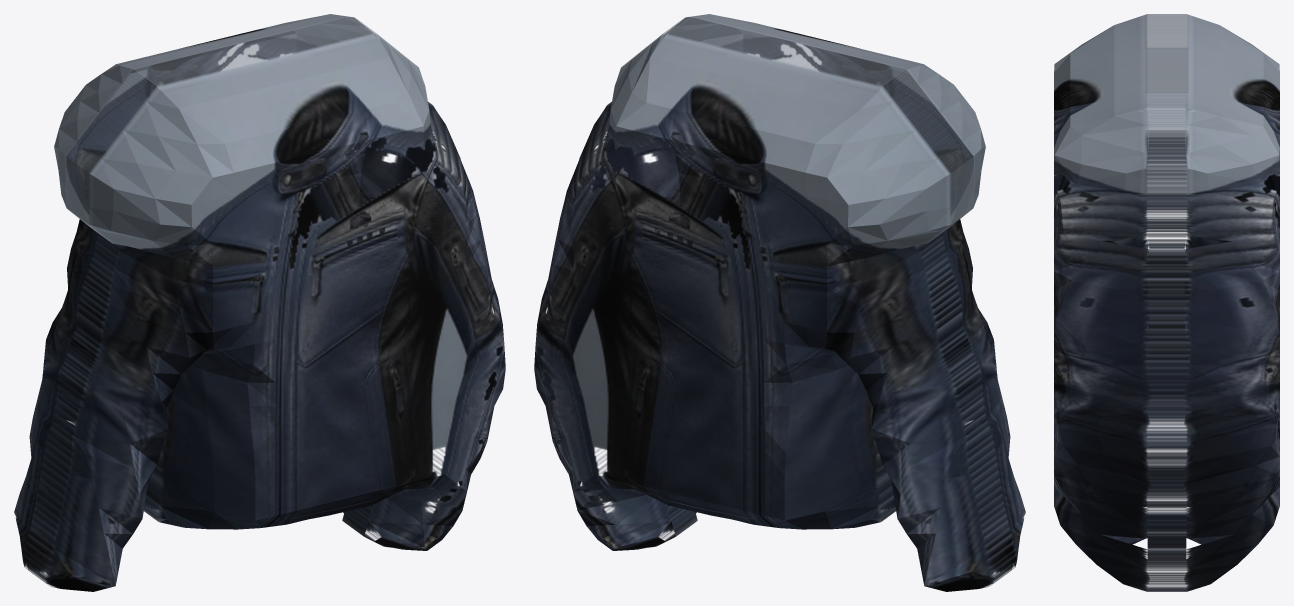
File: agv-horizon-leather-jacket-006.glb
The picture shows the model from 3 angles, left to right: view 1: azimuth 30°, elevation 25°; view 2: azimuth 150°, elevation 25°; view 3: azimuth 270°, elevation 25°; orthographic projection. The views are drawn at different scales.
Parts seen in each view (by area): view 1: world; view 2: world; view 3: world.
Part boxes in pixels (box(x1,y1,x2,y2)): world: box(14, 14, 505, 591); world: box(534, 14, 1025, 591); world: box(1054, 14, 1279, 591).
Bounding box in the file's own units: 0.8936 × 1 × 0.44.
Materials: 1 (1 with a texture image).
